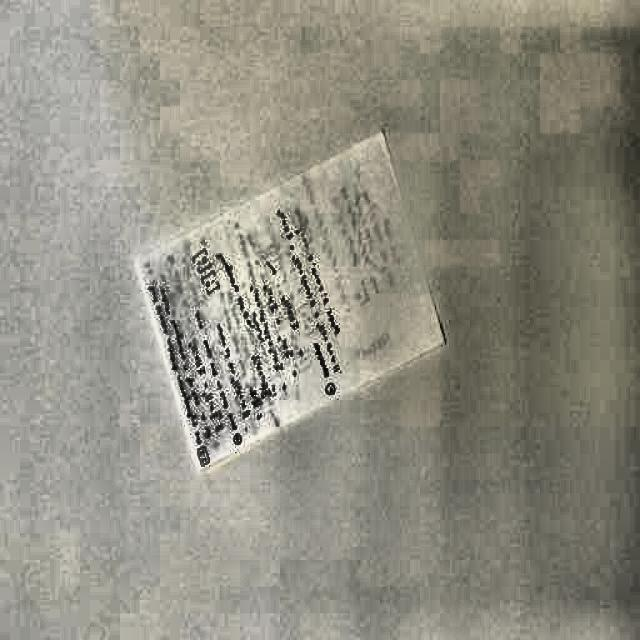paper: (134, 139, 450, 472)
